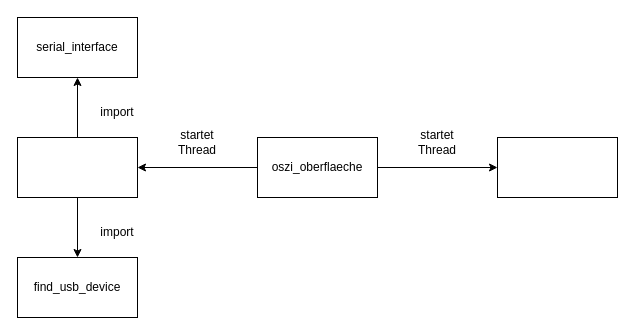
This 635x335 diagram has some shape labels left out. Here are the shapes that lost their labels. From the top down, the centre of each, then its label:
At (x=77, y=167): "usb_oszi_pc_fsm".
At (x=557, y=167): "measurement _functions".
